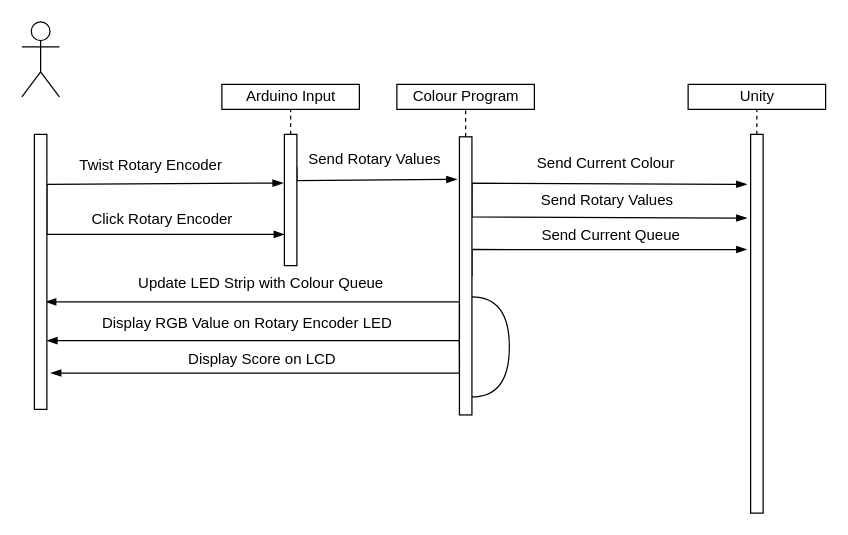
Image size: 848x535. Some labels were removed from this diagram. The centre of each missing label's shape, as x and y in pixels:
"Update Score, Colour Queue and Input Colour" goes at (x=490, y=346).
"User" goes at (x=40, y=59).
